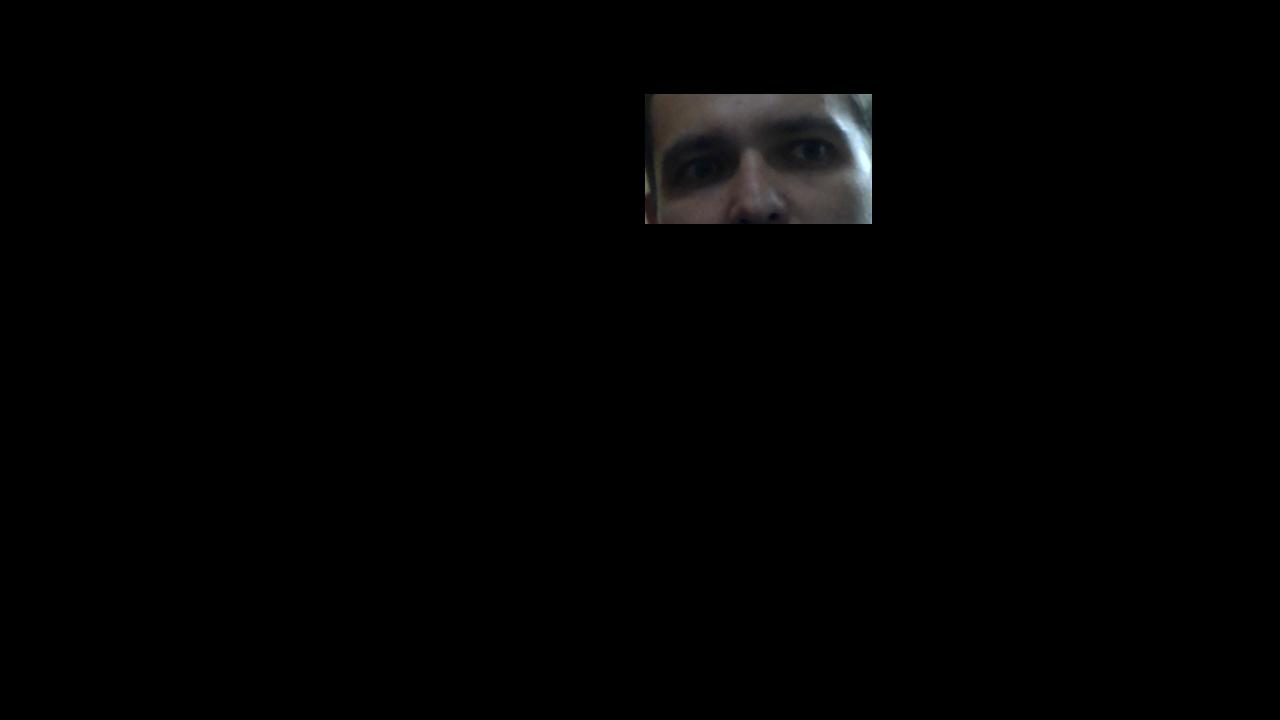eye: (689, 161, 716, 181), (803, 145, 822, 160)
